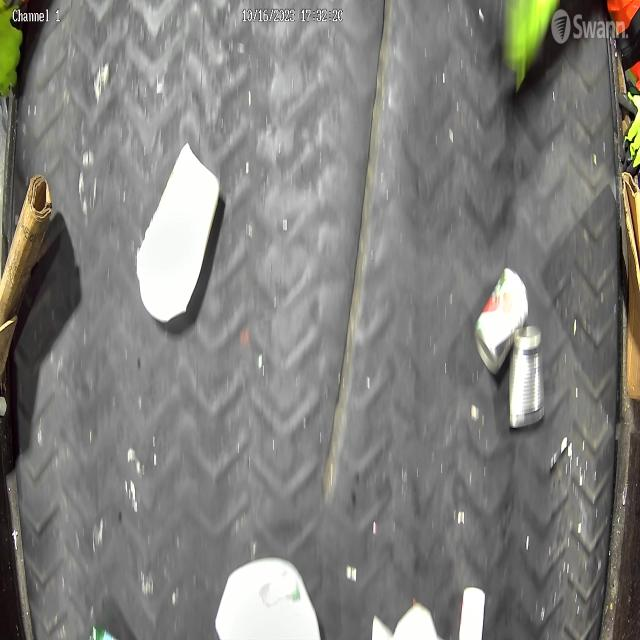can: (468, 263, 530, 374), (505, 324, 550, 426)
milk_jug: (212, 554, 326, 640)
